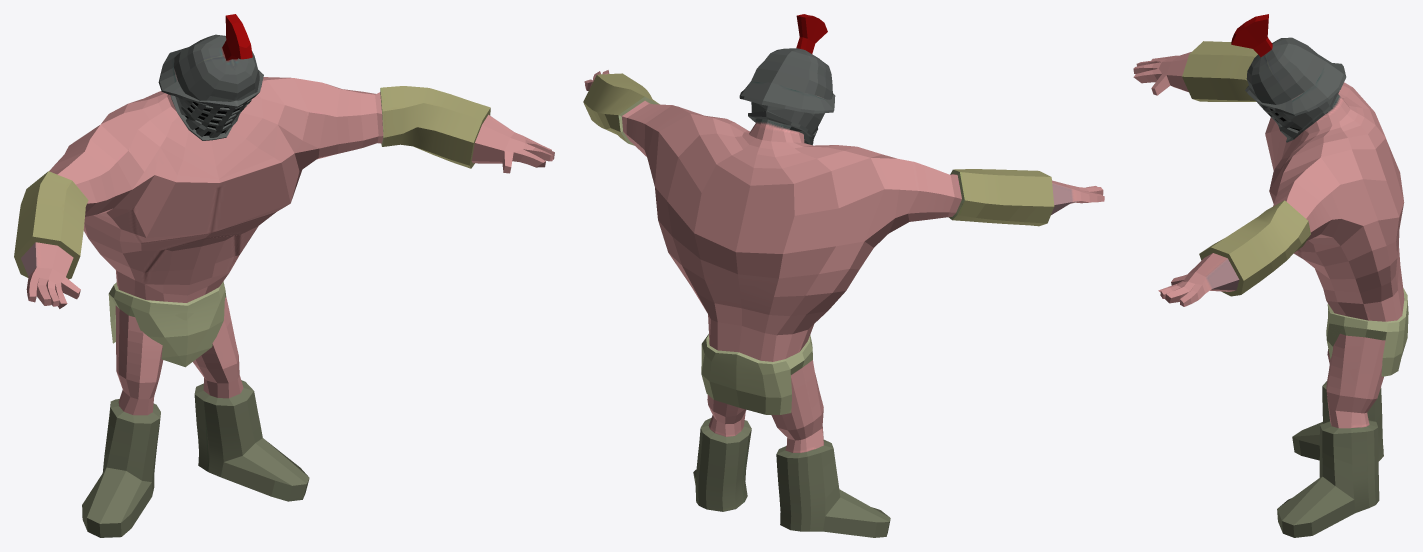
The model's file is GladiatorCelebracion_000525.obj.
3 renders of one model, left to right at view 1: azimuth 30°, elevation 25°; view 2: azimuth 150°, elevation 25°; view 3: azimuth 270°, elevation 25°, orthographic. The views are drawn at different scales.
Visible parts, largest first — view 1: Gadiador_Gladiador_H; view 2: Gadiador_Gladiador_H; view 3: Gadiador_Gladiador_H.
Boxes of the visible parts, x1,y1,x2,y2 form: Gadiador_Gladiador_H: (14, 14, 554, 537); Gadiador_Gladiador_H: (583, 14, 1104, 537); Gadiador_Gladiador_H: (1133, 14, 1408, 537).
Size of the model in its own units: 7.91 by 7.16 by 3.71.
1 material, 1 textured.
